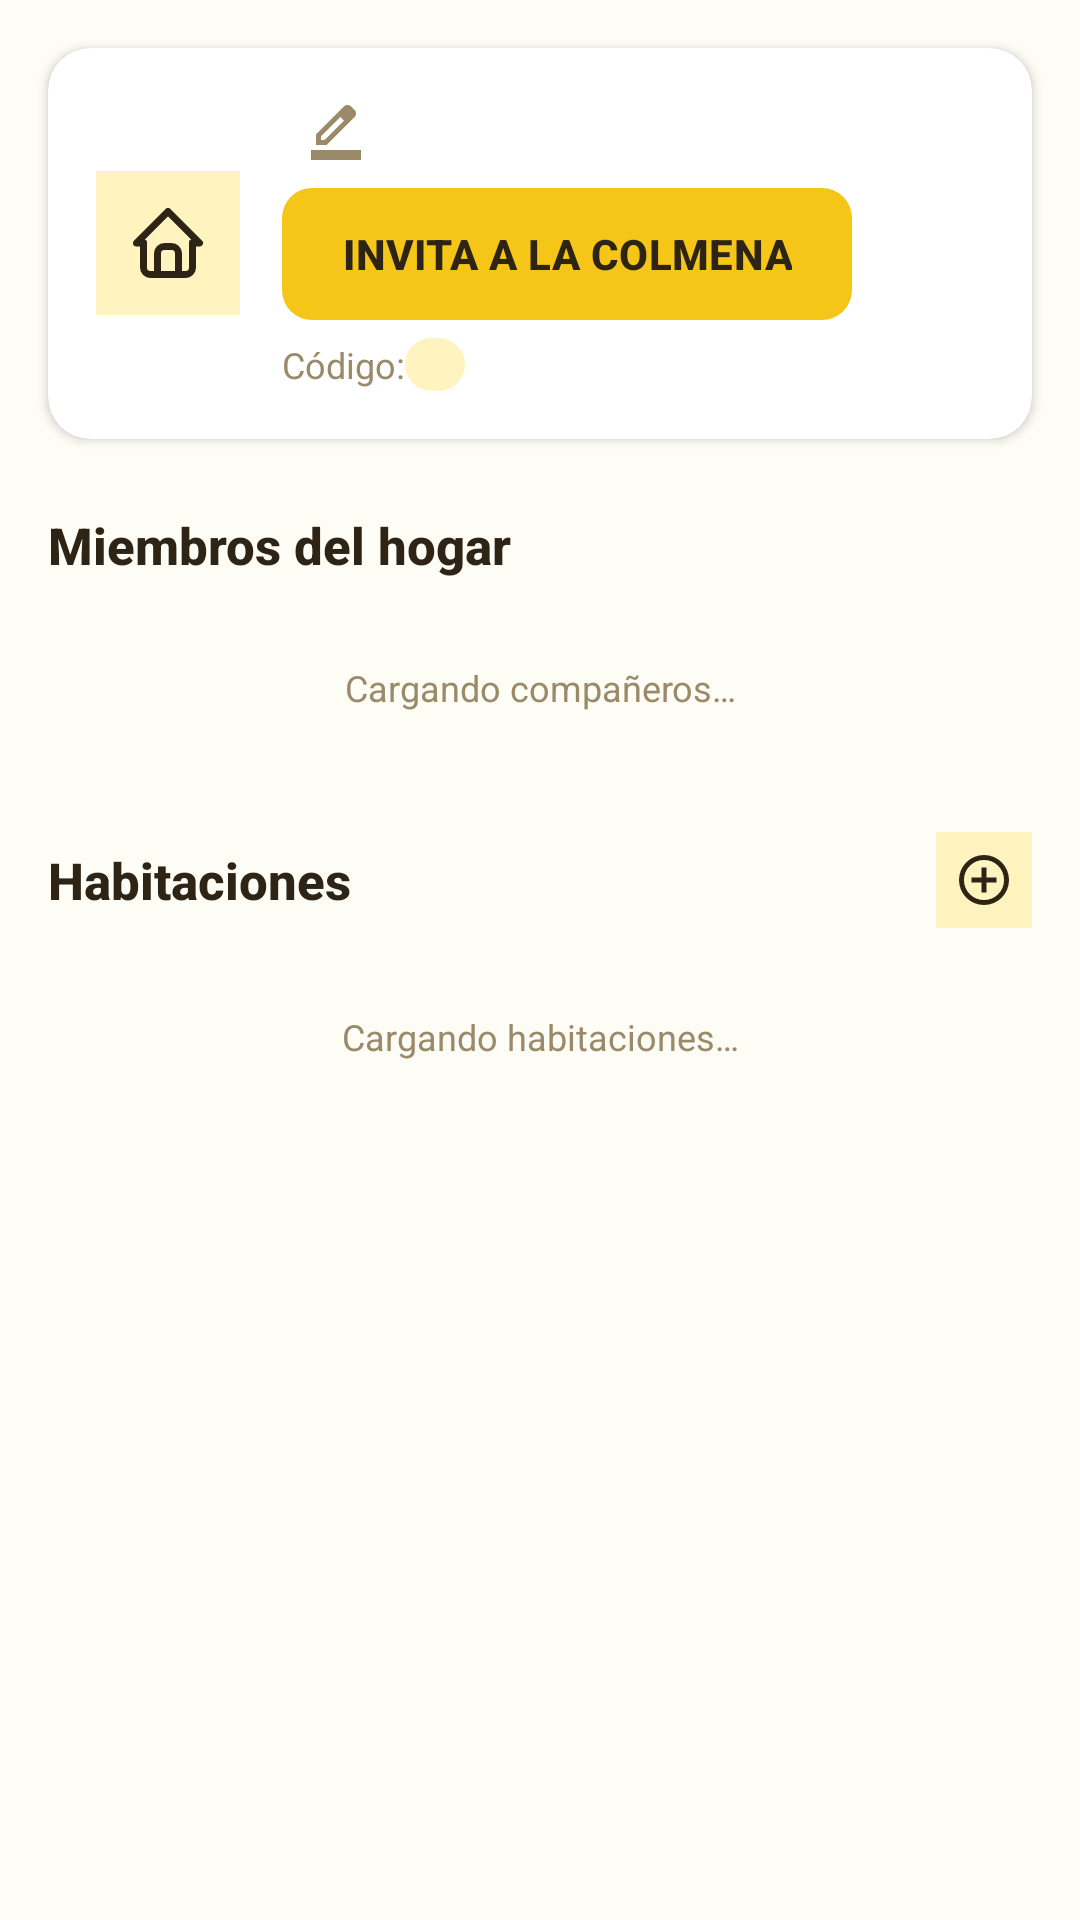

Where icons sit on this 1080 x 1920 app screen, as (x1, y1, x2, y2):
Añadir habitación: (936, 832, 1032, 928)
Editar nombre del hogar: (311, 105, 361, 160)
home: (96, 171, 240, 315)
